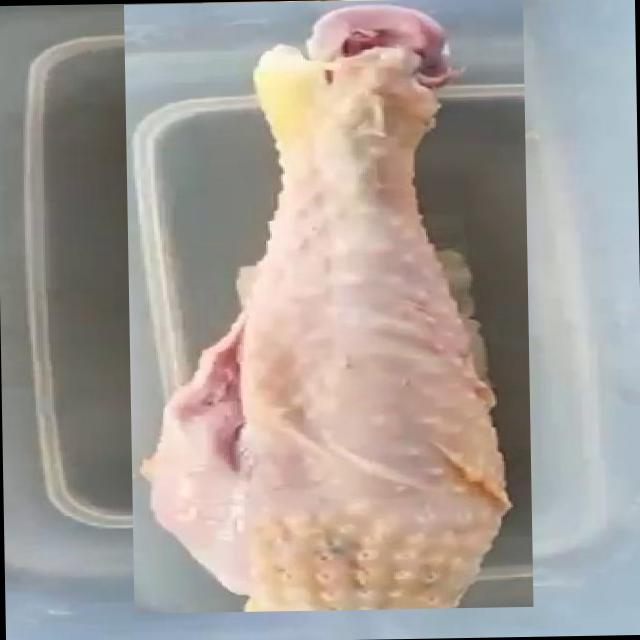chicken: (122, 0, 533, 613)
